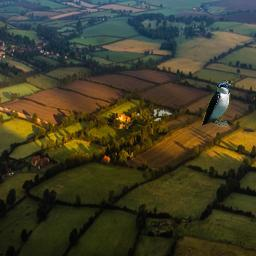Swallow: (202, 81, 231, 127)
